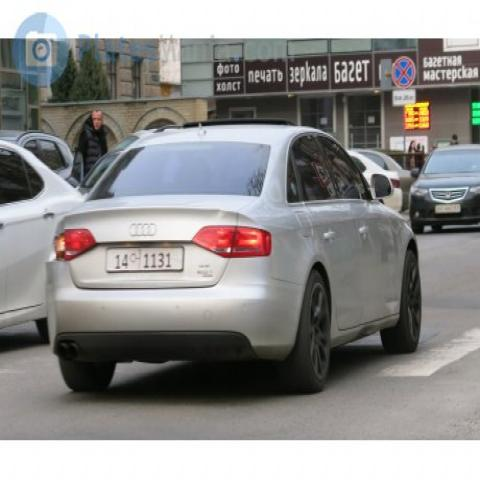LP: (100, 236, 186, 281)
